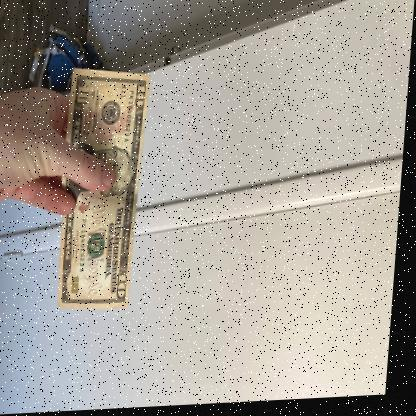ten-front: (58, 65, 150, 314)
